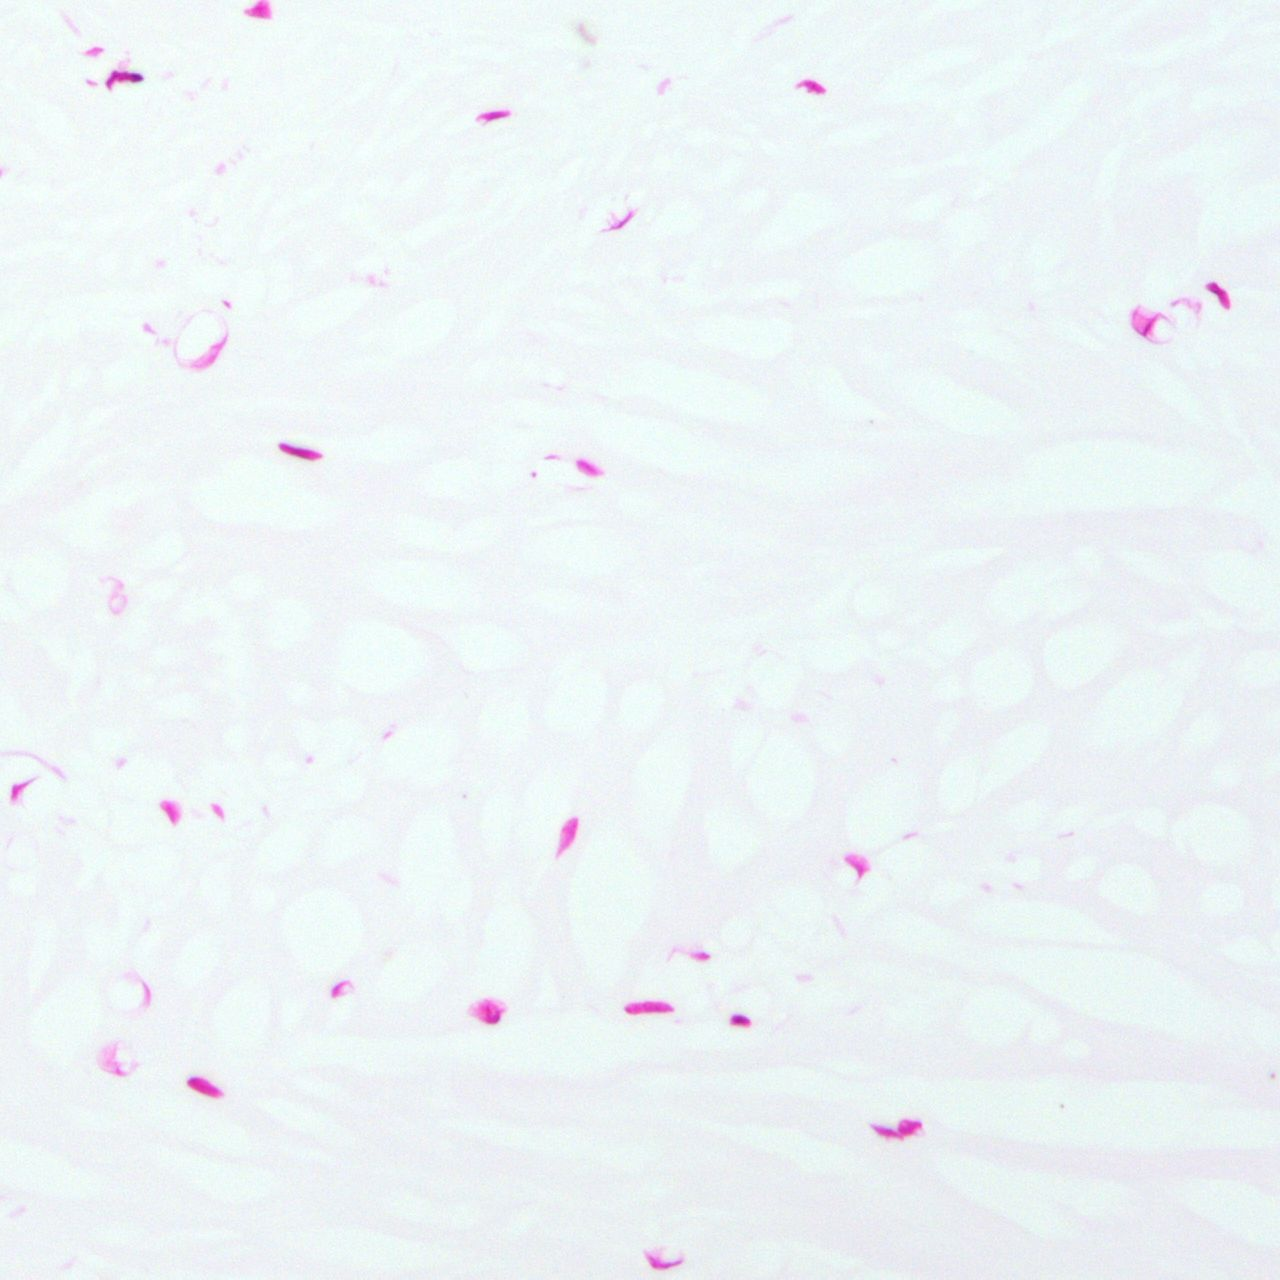nucleus-FG: (183, 1073, 229, 1105), (275, 440, 324, 464), (1203, 275, 1235, 311), (870, 1119, 921, 1137), (574, 454, 604, 482), (105, 72, 144, 89), (798, 75, 828, 97), (472, 1001, 501, 1023), (625, 1001, 672, 1014), (481, 108, 510, 122), (730, 1015, 749, 1026)
